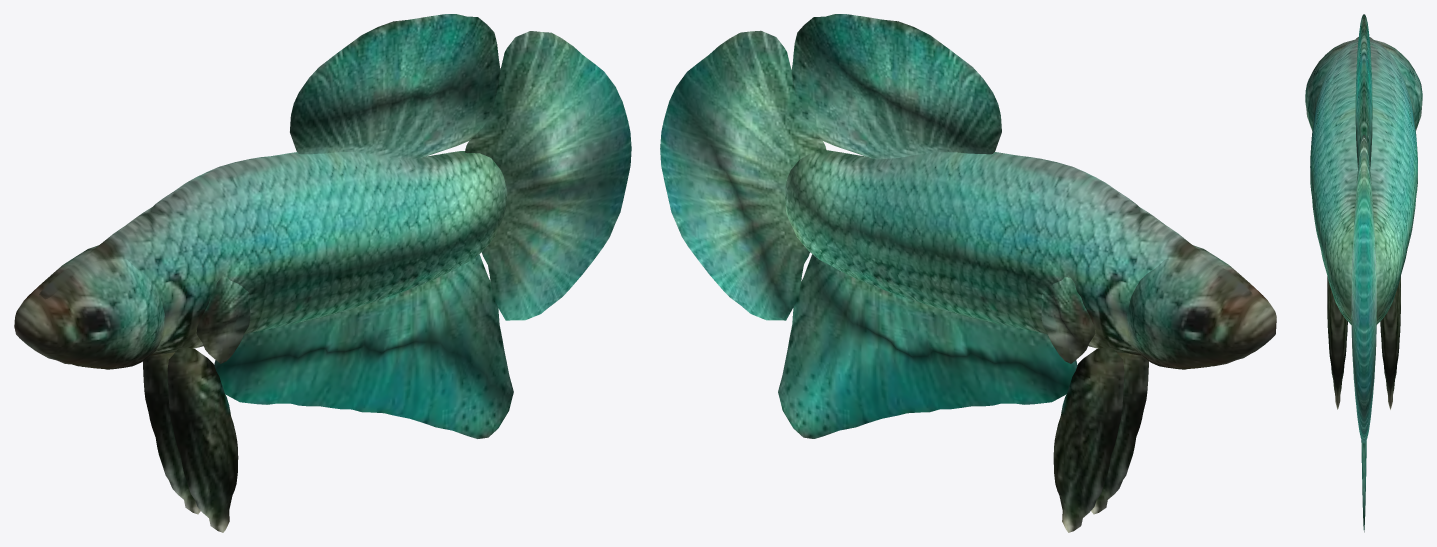
Rendered from betta.glb.
The picture shows the model from 3 angles, left to right: view 1: azimuth 30°, elevation 25°; view 2: azimuth 150°, elevation 25°; view 3: azimuth 270°, elevation 25°; orthographic projection. The views are drawn at different scales.
Visible parts, largest first — view 1: Object_2; view 2: Object_2; view 3: Object_2.
Part boxes in pixels (bbox=[...]): Object_2: bbox=[14, 14, 631, 532]; Object_2: bbox=[660, 14, 1276, 532]; Object_2: bbox=[1305, 14, 1422, 532].
Size of the model in its own units: 145 by 104 by 23.06.
Materials: 1 (1 with a texture image).
